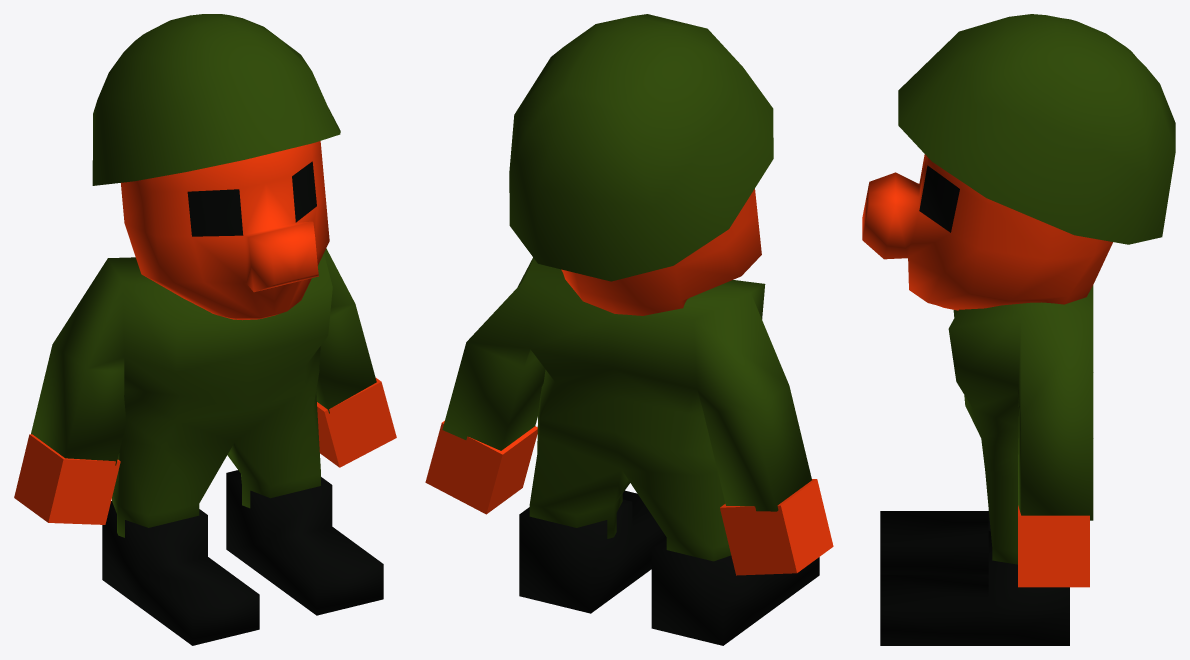
Rendered from Soldier.FBX.
The picture shows the model from 3 angles, left to right: view 1: azimuth 30°, elevation 25°; view 2: azimuth 150°, elevation 25°; view 3: azimuth 270°, elevation 25°; orthographic projection. The views are drawn at different scales.
Visible parts, largest first — view 1: Soldier; view 2: Soldier; view 3: Soldier.
Part boxes in pixels (x1,y1,x2,y2): Soldier: [14, 14, 396, 645]; Soldier: [425, 14, 833, 645]; Soldier: [862, 14, 1175, 645].
Size of the model in its own units: 77.96 by 116 by 57.71.
